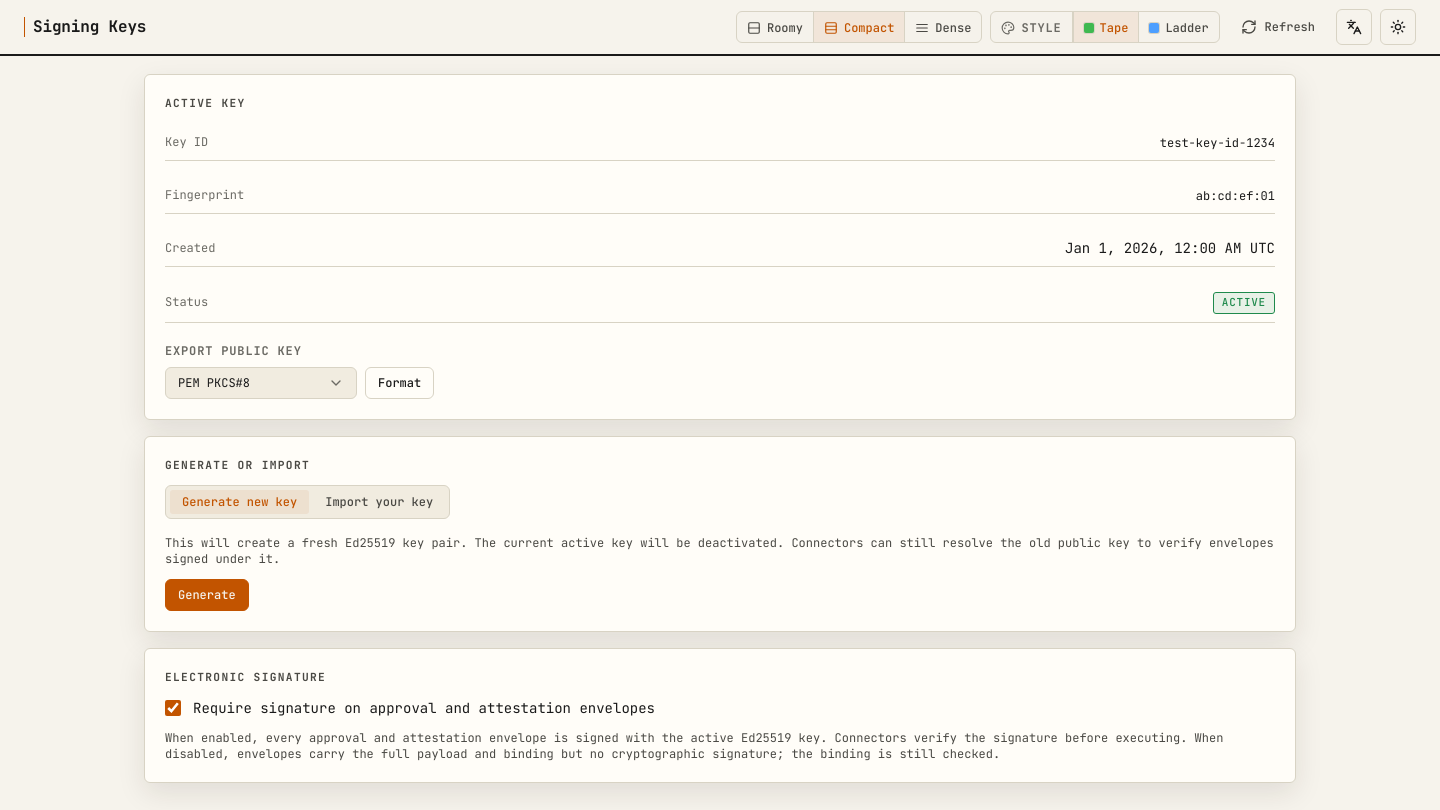
Test: SigningKeys page - key entry and the master key › leaves key entry open with a master key
Check: the button "Generate" is enabled, box [165,579,249,611]
What coordinates should you click on to do the following:
click the button "Import your key"
I would click on:
 (379, 502)
Its box is [313,490,445,514].
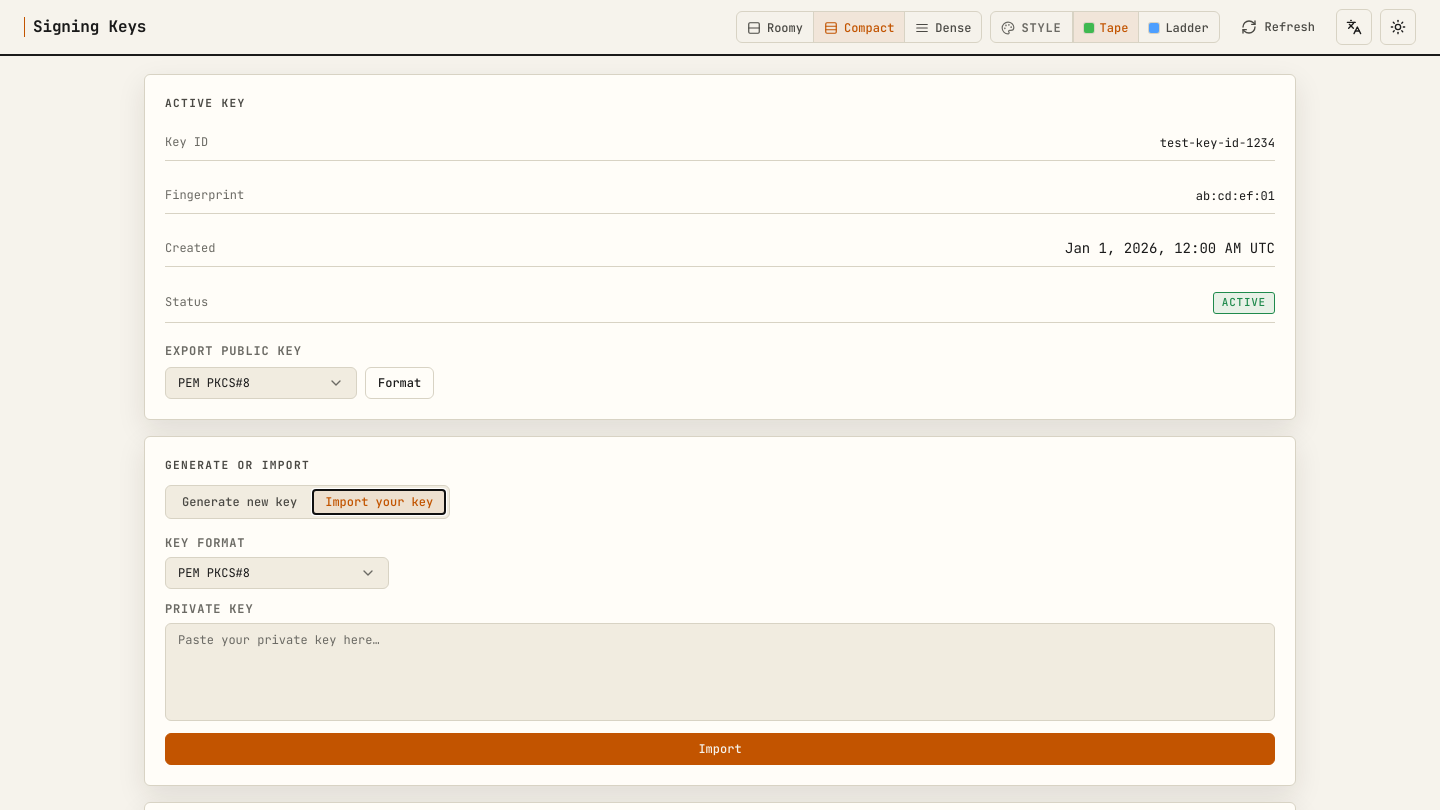
Check: the button "Import" is enabled, box [165,733,1275,765]
Check: the text box with placeholder "Paste your private key here…" is enabled, box [165,623,1275,721]
